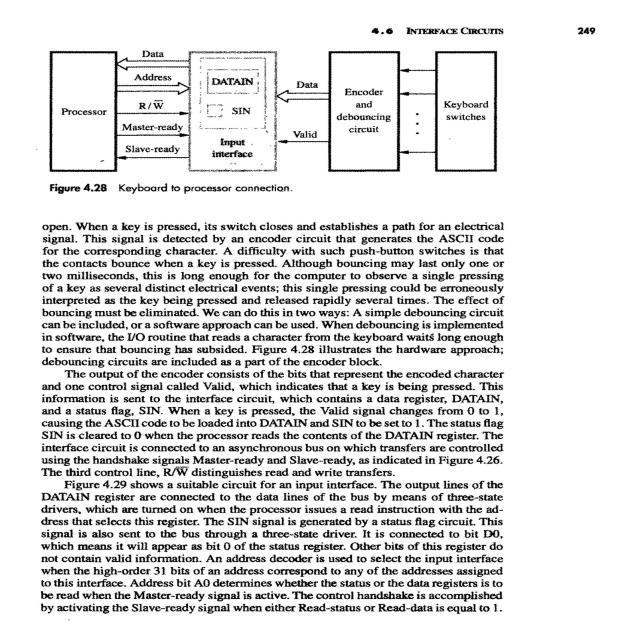diagram: (32, 32, 640, 197)
